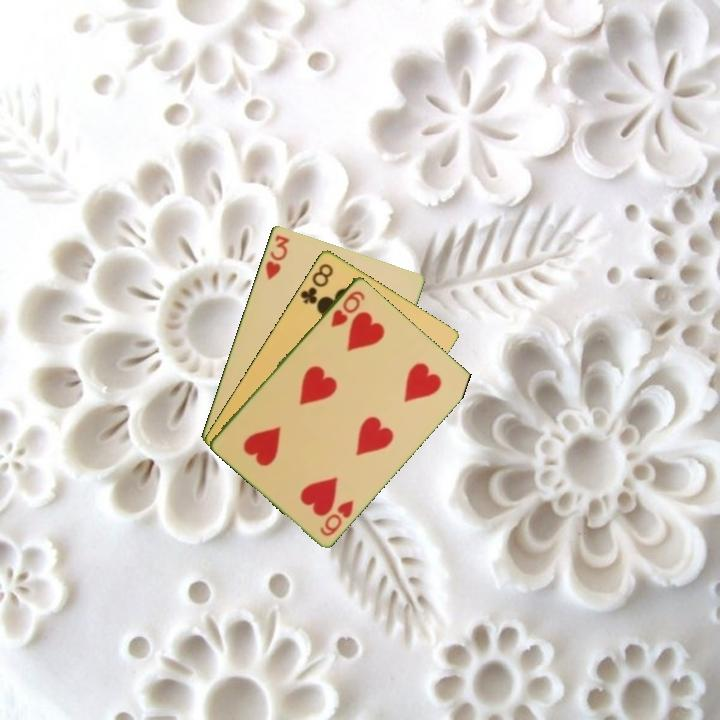3h: (262, 231, 292, 283)
6h: (327, 287, 368, 330), (316, 496, 356, 539)
8c: (296, 259, 336, 307)
